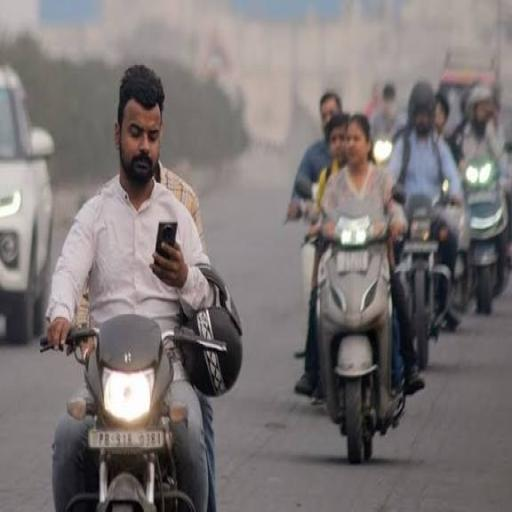helmet: (409, 83, 437, 138)
no_helmet: (117, 64, 161, 186), (343, 109, 376, 170)
